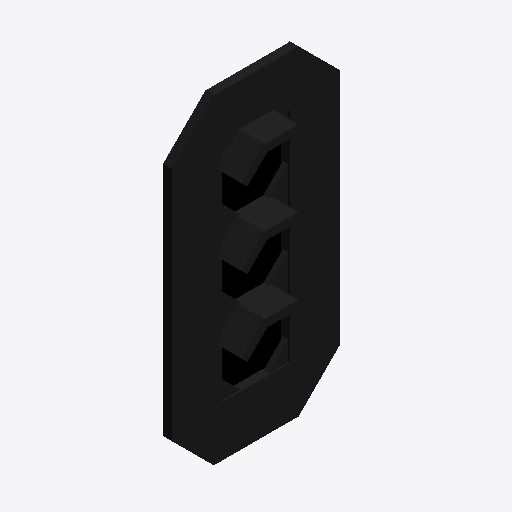
Isometric view (azimuth 45°, elevation 35.3°) of a Minecraft model made of 33 cuboids, textured from the same repository.
Visible parts, largest first — element 5, element 4, element 9, element 1, element 7, element 6, element 3, element 2, element 8, element 18, element 10, element 26 (+3 smaller).
Boxes of the visible parts, x1=… form: element 5: x1=163, y1=143, x2=221, y2=440; element 4: x1=281, y1=71, x2=339, y2=370; element 9: x1=222, y1=144, x2=280, y2=385; element 1: x1=214, y1=359, x2=297, y2=463; element 7: x1=207, y1=42, x2=296, y2=148; element 6: x1=164, y1=90, x2=240, y2=182; element 3: x1=172, y1=395, x2=240, y2=464; element 2: x1=272, y1=329, x2=339, y2=416; element 8: x1=273, y1=41, x2=339, y2=116; element 18: x1=217, y1=216, x2=269, y2=273; element 10: x1=216, y1=304, x2=266, y2=361; element 26: x1=216, y1=130, x2=268, y2=185.
Bounding box in the file's own units: 10 × 19.09 × 3.